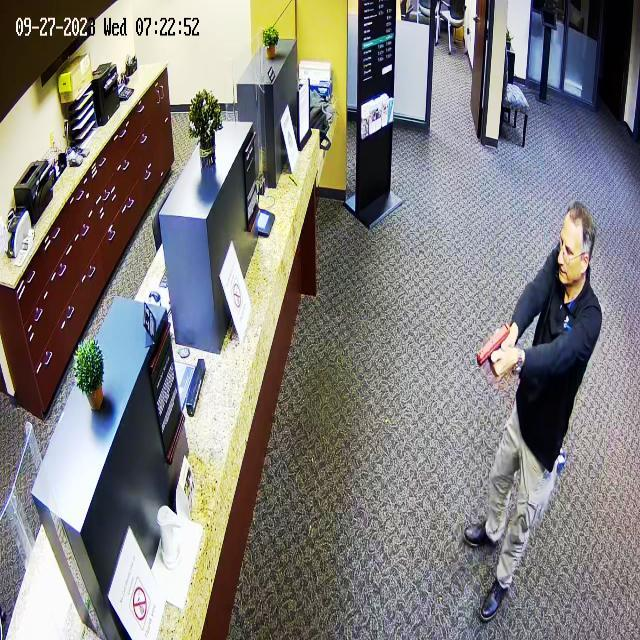Gun: (456, 316, 527, 384)
